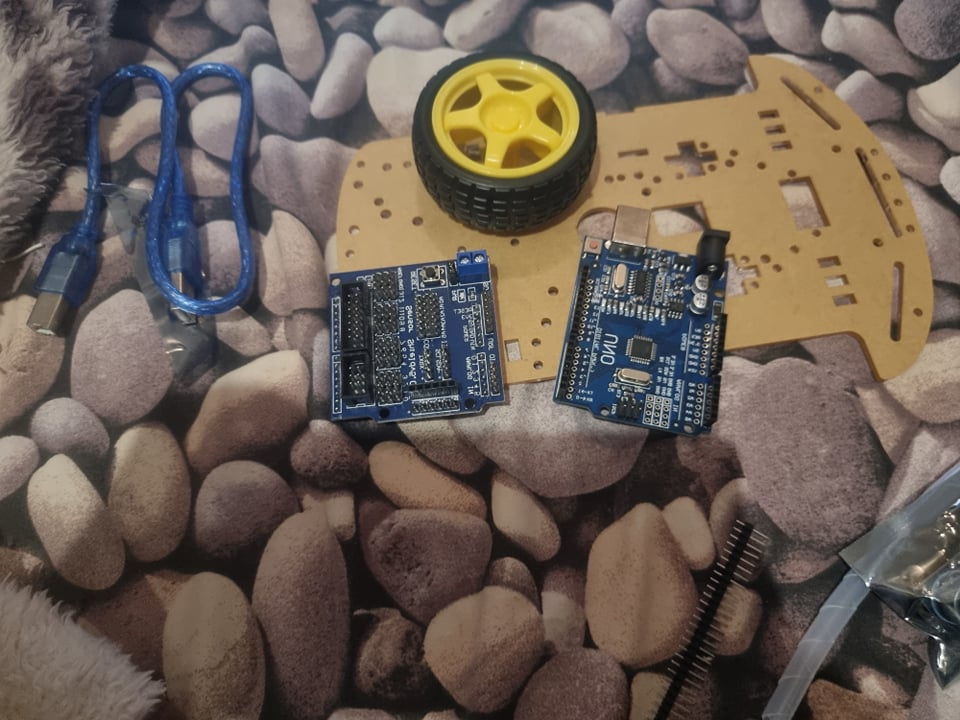5V EXPANSION: (329, 250, 503, 423)
UNO R3: (552, 206, 732, 436)
